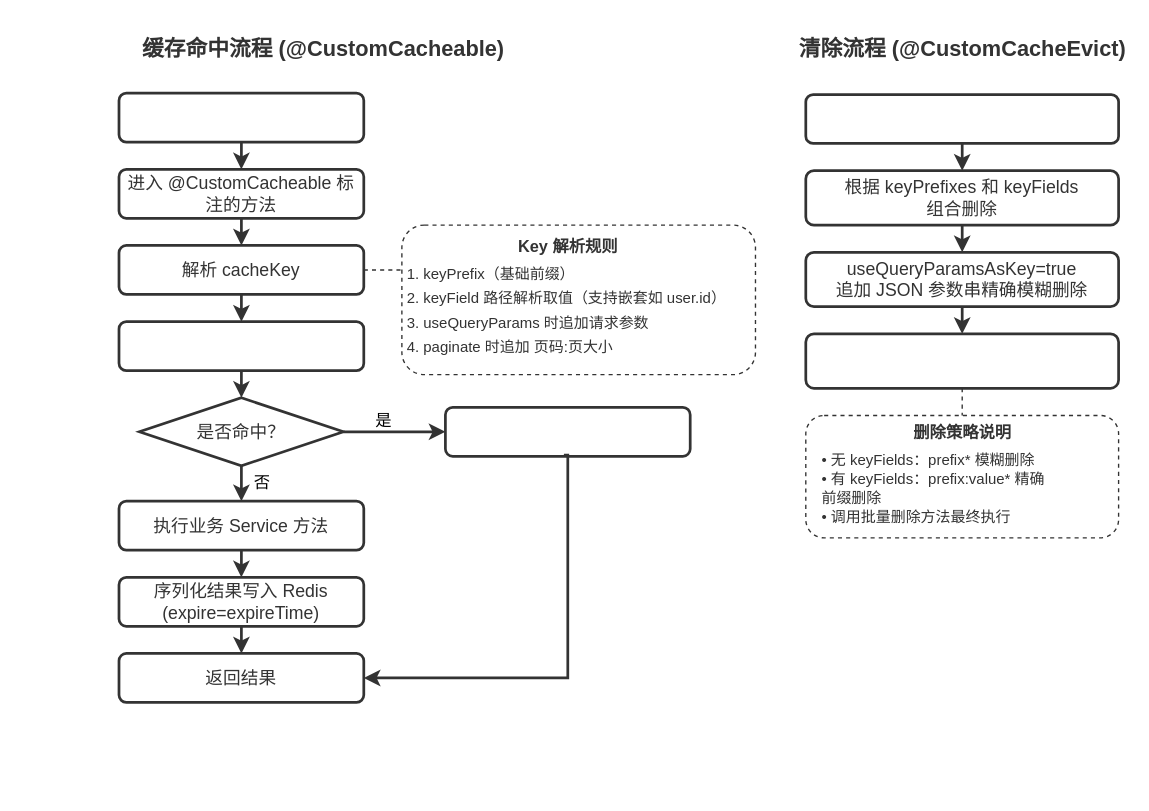
Some shapes in this 1149 by 811 pixel diagram are drawn without their labels. Here are the shapes that lost their labels. From the top down, the centre of each, then its label:
At point (240, 117): "客户端发起查询请求".
At point (961, 118): "执行目标方法（先执行后清除）".
At point (240, 345): "从 Redis 读取 cacheKey".
At point (961, 360): "redisCache.deleteObjectsByPattern (keyPattern) 批量删除".
At point (567, 431): "JSON 反序列化 直接返回结果".
